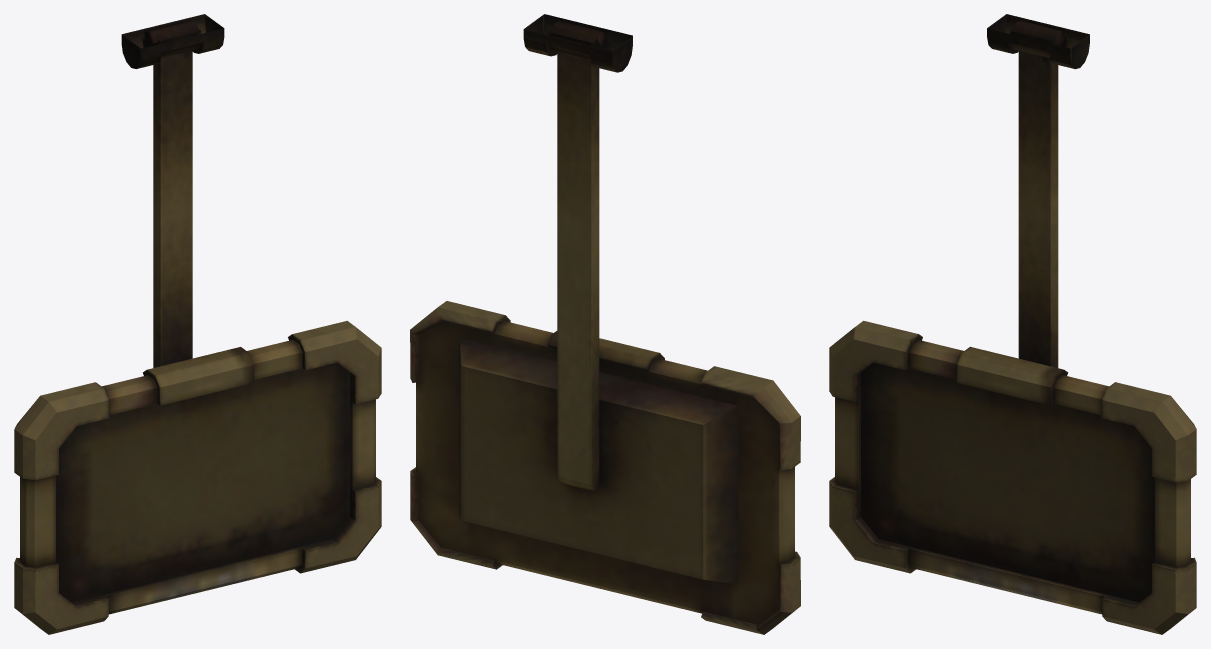
The model's file is 01_05_transporter_passenger_destinationpicker.dae.
3 renders of one model, left to right at view 1: azimuth 30°, elevation 25°; view 2: azimuth 150°, elevation 25°; view 3: azimuth 330°, elevation 25°, orthographic. The views are drawn at different scales.
Visible parts, largest first — view 1: tv, tv_holder1; view 2: tv, tv_holder1; view 3: tv, tv_holder1.
Boxes of the visible parts, left/top/right/bottom form: tv: left=14, top=20, right=381, bottom=634; tv_holder1: left=121, top=14, right=224, bottom=68; tv: left=410, top=21, right=800, bottom=634; tv_holder1: left=523, top=14, right=632, bottom=72; tv: left=829, top=20, right=1196, bottom=634; tv_holder1: left=987, top=14, right=1089, bottom=69.
Bounding box in the file's own units: 1.03 × 1.5 × 0.2196.
